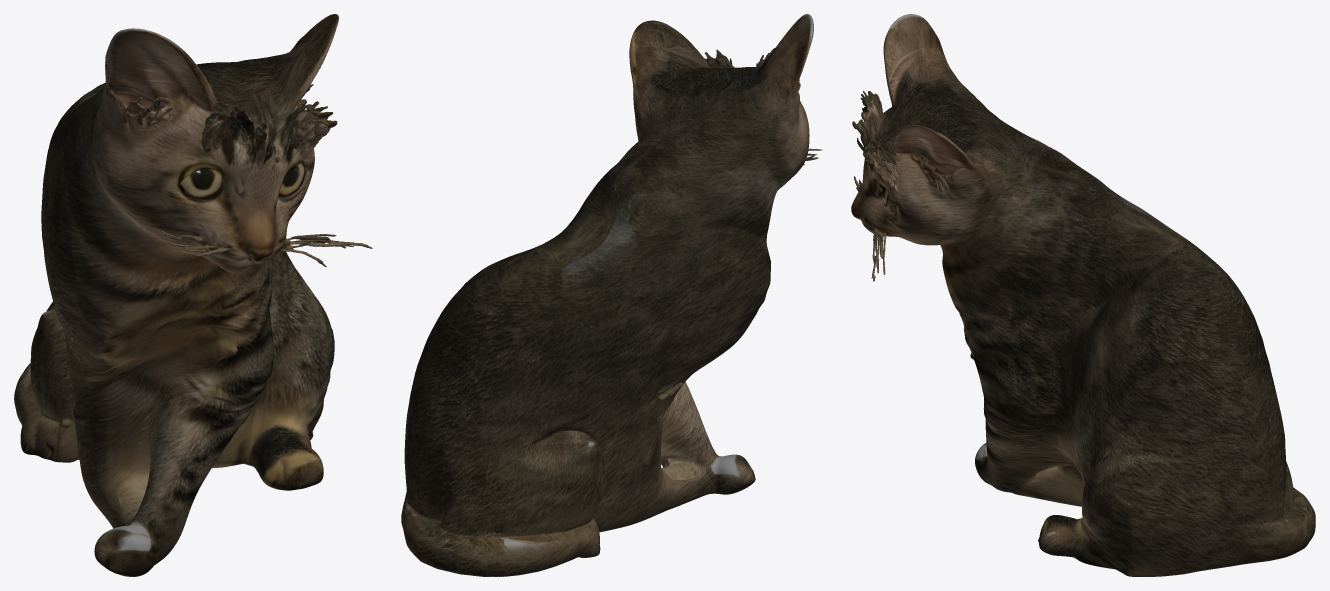
File: gongfu-tripo-2k-original.glb
The picture shows the model from 3 angles, left to right: view 1: azimuth 30°, elevation 25°; view 2: azimuth 150°, elevation 25°; view 3: azimuth 270°, elevation 25°; orthographic projection. The views are drawn at different scales.
Parts seen in each view (by area): view 1: tripo_node_ff39ce26-47d7-4e51-8bfb-ee38c5a49e10; view 2: tripo_node_ff39ce26-47d7-4e51-8bfb-ee38c5a49e10; view 3: tripo_node_ff39ce26-47d7-4e51-8bfb-ee38c5a49e10.
Part boxes in pixels (left/top/right/bottom): tripo_node_ff39ce26-47d7-4e51-8bfb-ee38c5a49e10: left=14, top=14, right=372, bottom=576; tripo_node_ff39ce26-47d7-4e51-8bfb-ee38c5a49e10: left=401, top=14, right=822, bottom=576; tripo_node_ff39ce26-47d7-4e51-8bfb-ee38c5a49e10: left=851, top=14, right=1315, bottom=576.
Size of the model in its own units: 0.6248 by 1 by 0.9426.
1 material, 1 textured.
